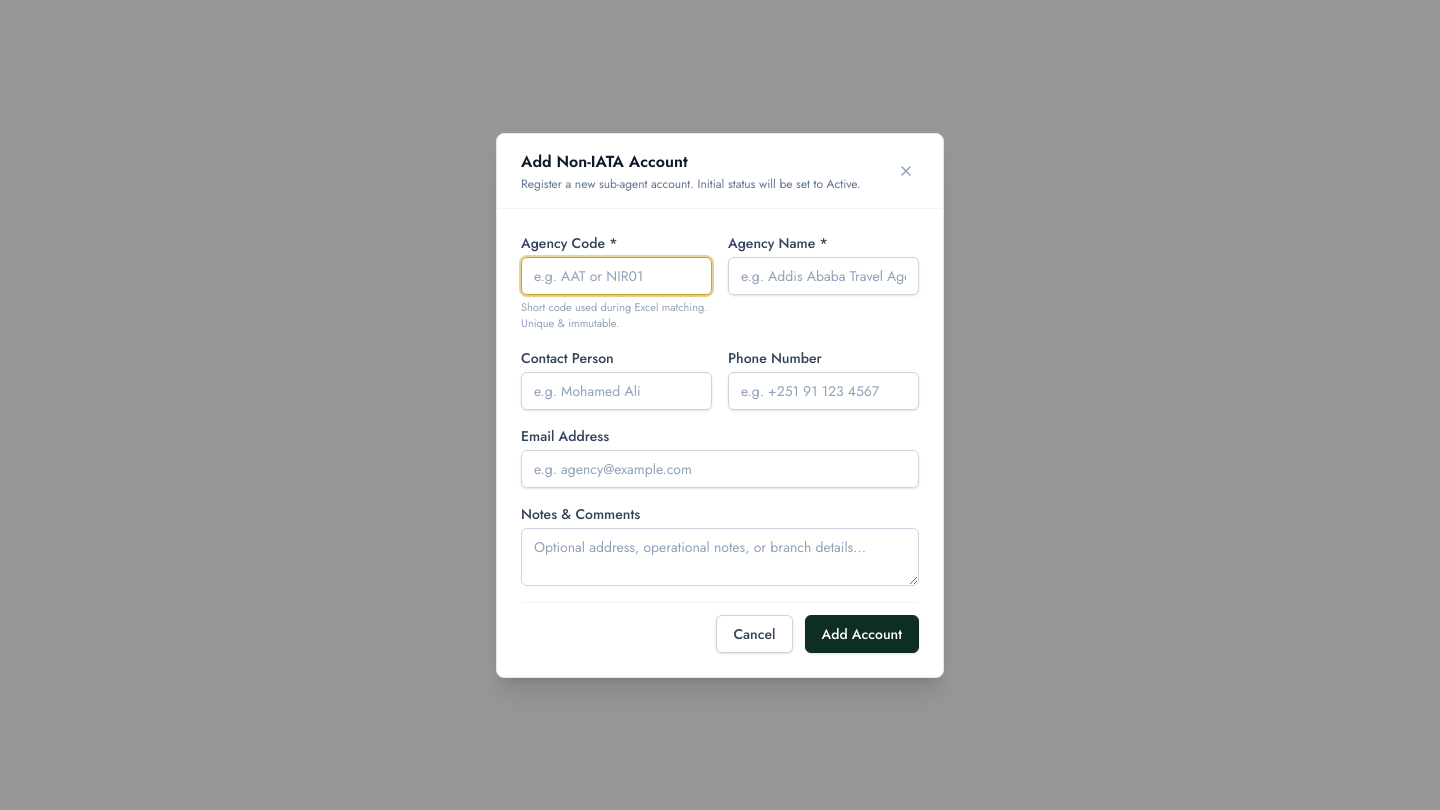
Test: NonIataCreateModal › validates required fields before submitting
Click the button "Add Account" at {"x": 862, "y": 634}, box [804, 614, 919, 652]
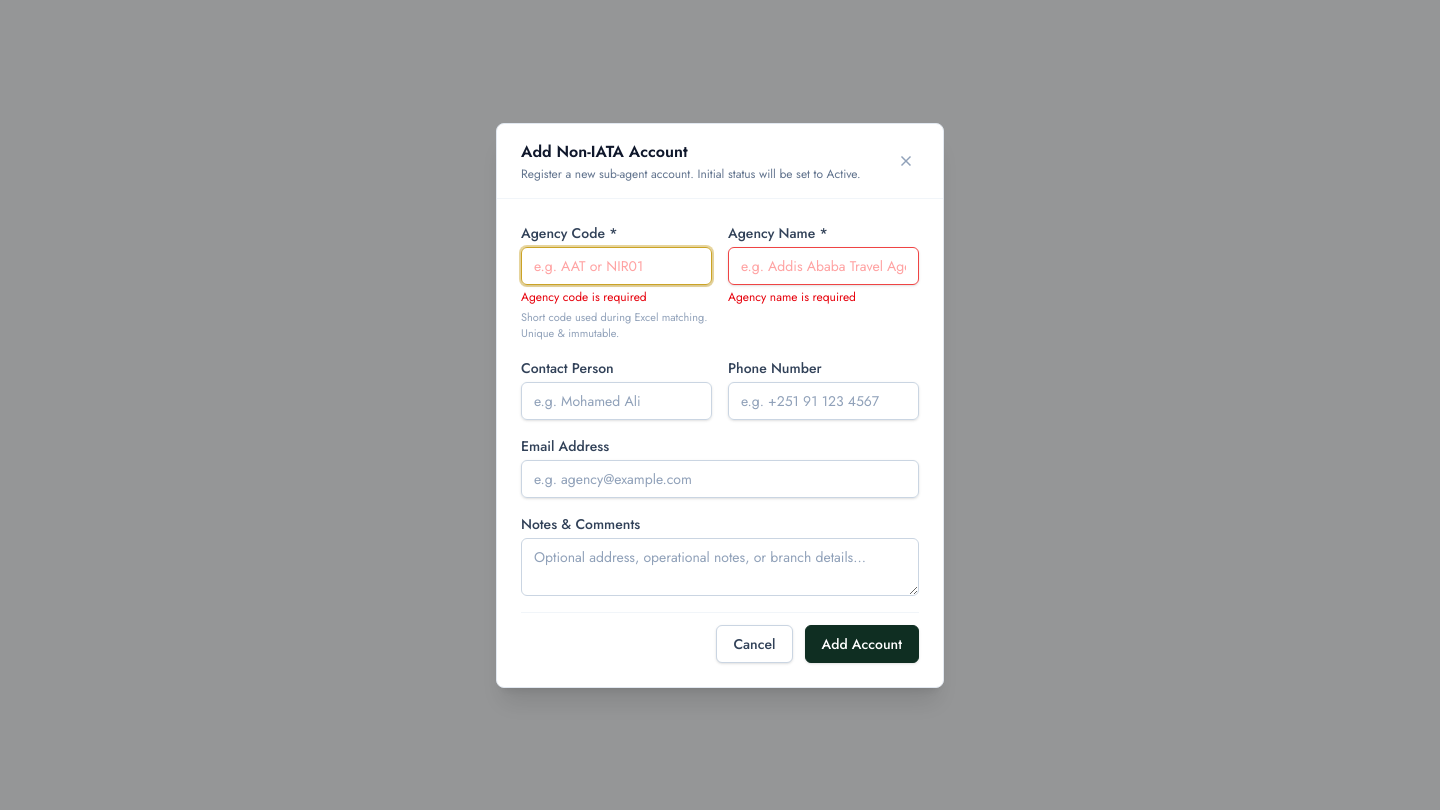
Expected: the text "Agency code is required" is shown, [521, 288, 647, 306]
Expected: the text "Agency name is required" is shown, [728, 288, 856, 306]
